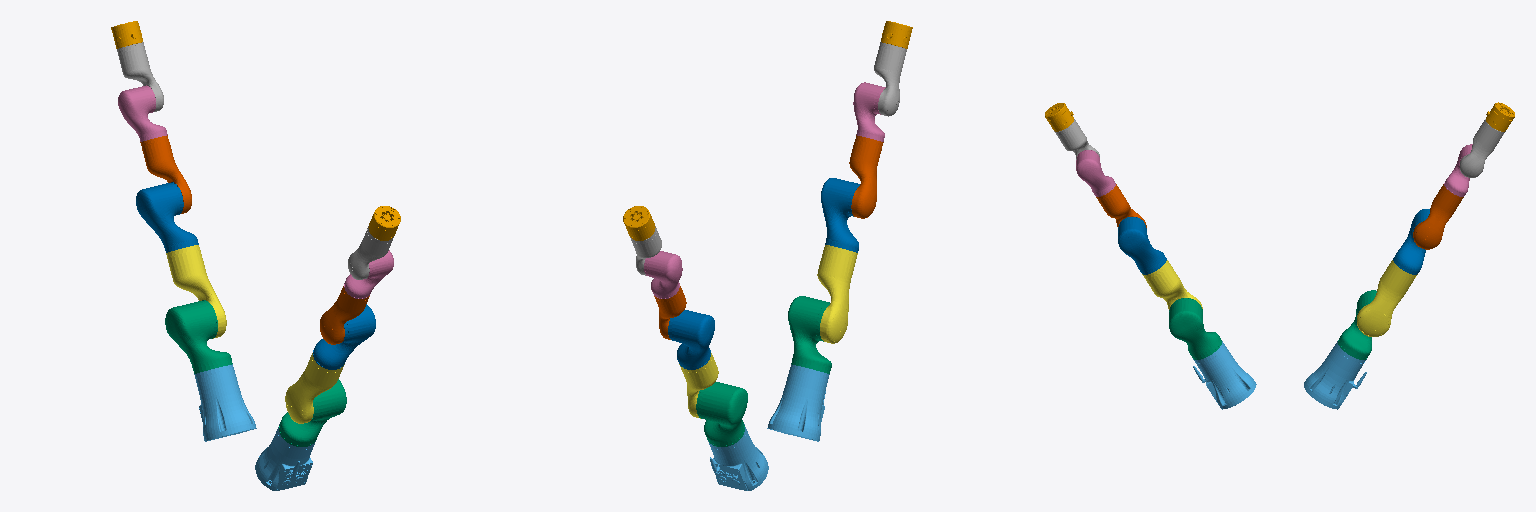
robot.urdf — PsiRobot_DC_02:
<?xml version="1.0" encoding="UTF-8"?>
<robot name="PsiRobot_DC_02">
  <joint name="arm1_joint_link1" type="revolute">
    <origin xyz="-0. -0. 0.2405" rpy="0. 0. 0."/>
    <parent link="arm1_link0"/>
    <child link="arm1_link1"/>
    <axis xyz="0. 0. 1."/>
    <limit lower="-3.1049998" upper="3.1049998" effort="60." velocity="3.1400001"/>
  </joint>
  <joint name="arm1_joint_link2" type="revolute">
    <origin xyz="0. 0. 0." rpy="-1.5426649 -1.5707927 3.1134648"/>
    <parent link="arm1_link1"/>
    <child link="arm1_link2"/>
    <axis xyz="0. 0. 1."/>
    <limit lower="-2.2689999" upper="2.2689999" effort="60." velocity="3.1400001"/>
  </joint>
  <joint name="arm1_joint_link3" type="revolute">
    <origin xyz="0.2560001 0. 0. " rpy="-1.5707963 -0.0000036 -1.5708 "/>
    <parent link="arm1_link2"/>
    <child link="arm1_link3"/>
    <axis xyz="0. 0. 1."/>
    <limit lower="-3.1049998" upper="3.1049998" effort="30." velocity="3.1400001"/>
  </joint>
  <joint name="arm1_joint_link4" type="revolute">
    <origin xyz="0. -0. 0." rpy="-1.5707963 -0. 3.1415892"/>
    <parent link="arm1_link3"/>
    <child link="arm1_link4"/>
    <axis xyz="0. 0. 1."/>
    <limit lower="-2.3559998" upper="2.3559998" effort="30." velocity="3.1400001"/>
  </joint>
  <joint name="arm1_joint_link5" type="revolute">
    <origin xyz="0. -0.21 0. " rpy="1.5708001 -0. -0. "/>
    <parent link="arm1_link4"/>
    <child link="arm1_link5"/>
    <axis xyz="0. 0. 1."/>
    <limit lower="-3.1049998" upper="3.1049998" effort="10." velocity="3.1400001"/>
  </joint>
  <joint name="arm1_joint_link6" type="revolute">
    <origin xyz="0. 0. 0." rpy="-1.5708 0. -0. "/>
    <parent link="arm1_link5"/>
    <child link="arm1_link6"/>
    <axis xyz="0. 0. 1."/>
    <limit lower="-2.2339999" upper="2.2339999" effort="10." velocity="3.1400001"/>
  </joint>
  <joint name="arm1_joint_link7" type="revolute">
    <origin xyz="0. -0.1613 0. " rpy="1.5708 -0. -0. "/>
    <parent link="arm1_link6"/>
    <child link="arm1_link7"/>
    <axis xyz="0. 0. 1."/>
    <limit lower="-6.2799996" upper="6.2799996" effort="10." velocity="3.1400001"/>
  </joint>
  <joint name="arm1_mount_joint" type="fixed">
    <origin xyz="0. 0.1035 1.022 " rpy="0. 0.5235988 1.5707964"/>
    <parent link="body"/>
    <child link="arm1_link0"/>
  </joint>
  <joint name="arm2_joint_link1" type="revolute">
    <origin xyz="-0. 0. 0.2405" rpy="0. 0. 0."/>
    <parent link="arm2_link0"/>
    <child link="arm2_link1"/>
    <axis xyz="0. 0. 1."/>
    <limit lower="-3.1049998" upper="3.1049998" effort="60." velocity="3.1400001"/>
  </joint>
  <joint name="arm2_joint_link2" type="revolute">
    <origin xyz="0. 0. 0." rpy="-1.5337282 -1.5707927 3.1045282"/>
    <parent link="arm2_link1"/>
    <child link="arm2_link2"/>
    <axis xyz="0. 0. 1."/>
    <limit lower="-2.2689999" upper="2.2689999" effort="60." velocity="3.1400001"/>
  </joint>
  <joint name="arm2_joint_link3" type="revolute">
    <origin xyz="0.2560001 0. 0. " rpy="-1.5707963 -0.0000037 -1.5708 "/>
    <parent link="arm2_link2"/>
    <child link="arm2_link3"/>
    <axis xyz="0. 0. 1."/>
    <limit lower="-3.1049998" upper="3.1049998" effort="30." velocity="3.1400001"/>
  </joint>
  <joint name="arm2_joint_link4" type="revolute">
    <origin xyz="0. -0. 0." rpy="-1.5707963 0. 3.1415892"/>
    <parent link="arm2_link3"/>
    <child link="arm2_link4"/>
    <axis xyz="0. 0. 1."/>
    <limit lower="-2.3559998" upper="2.3559998" effort="30." velocity="3.1400001"/>
  </joint>
  <joint name="arm2_joint_link5" type="revolute">
    <origin xyz="0. -0.21 0. " rpy="1.5708 -0. 0. "/>
    <parent link="arm2_link4"/>
    <child link="arm2_link5"/>
    <axis xyz="0. 0. 1."/>
    <limit lower="-3.1049998" upper="3.1049998" effort="10." velocity="3.1400001"/>
  </joint>
  <joint name="arm2_joint_link6" type="revolute">
    <origin xyz="0. 0. 0." rpy="-1.5708 -0. -0. "/>
    <parent link="arm2_link5"/>
    <child link="arm2_link6"/>
    <axis xyz="0. 0. 1."/>
    <limit lower="-2.2339999" upper="2.2339999" effort="10." velocity="3.1400001"/>
  </joint>
  <joint name="arm2_joint_link7" type="revolute">
    <origin xyz="0. -0.1613 0. " rpy="1.5708 -0. 0. "/>
    <parent link="arm2_link6"/>
    <child link="arm2_link7"/>
    <axis xyz="0. 0. 1."/>
    <limit lower="-6.2799996" upper="6.2799996" effort="10." velocity="3.1400001"/>
  </joint>
  <joint name="arm2_mount_joint" type="fixed">
    <origin xyz="0. -0.1035 1.022 " rpy="-0. 0.5235988 -1.5707964"/>
    <parent link="body"/>
    <child link="arm2_link0"/>
  </joint>
  <joint name="base_root_joint" type="fixed">
    <origin xyz="0. 0. 0." rpy="0. 0. 0."/>
    <parent link="PsiRoobot_DC_02"/>
    <child link="body"/>
  </joint>
  <link name="PsiRoobot_DC_02"/>
  <link name="arm1_link0">
    <inertial>
      <origin xyz="0. 0. 0." rpy="0. 0. 0."/>
      <mass value="0.8388853"/>
      <inertia ixx="0.001" ixy="0." ixz="0." iyy="0.001" iyz="0." izz="0.001"/>
    </inertial>
    <visual>
      <origin xyz="-0. 0. 0." rpy="0. -0. -0.0000001"/>
      <geometry>
        <mesh filename="meshes/arm1_link0_visuals.obj" scale="1. 1. 1."/>
      </geometry>
    </visual>
    <collision>
      <origin xyz="-0. 0. 0." rpy="0. -0. -0.0000001"/>
      <geometry>
        <mesh filename="meshes/arm1_link0_collisions.obj" scale="1. 1. 1."/>
      </geometry>
    </collision>
  </link>
  <link name="arm1_link1">
    <inertial>
      <origin xyz="0. 0. 0." rpy="0. 0. 0."/>
      <mass value="1.6026"/>
      <inertia ixx="0.001" ixy="0." ixz="0." iyy="0.001" iyz="0." izz="0.001"/>
    </inertial>
    <visual>
      <origin xyz="-0. 0. 0." rpy="0. -0. -0.0000001"/>
      <geometry>
        <mesh filename="meshes/arm1_link1_visuals.obj" scale="1. 1. 1."/>
      </geometry>
    </visual>
    <collision>
      <origin xyz="-0. 0. 0." rpy="0. -0. -0.0000001"/>
      <geometry>
        <mesh filename="meshes/arm1_link1_collisions.obj" scale="1. 1. 1."/>
      </geometry>
    </collision>
  </link>
  <link name="arm1_link2">
    <inertial>
      <origin xyz="0. 0. 0." rpy="0. 0. 0."/>
      <mass value="1.1687"/>
      <inertia ixx="0.001" ixy="0." ixz="0." iyy="0.001" iyz="0." izz="0.001"/>
    </inertial>
    <visual>
      <origin xyz="0. 0. 0." rpy="-0. -0. -0."/>
      <geometry>
        <mesh filename="meshes/arm1_link2_visuals.obj" scale="1. 1. 1."/>
      </geometry>
    </visual>
    <collision>
      <origin xyz="0. 0. 0." rpy="-0. -0. -0."/>
      <geometry>
        <mesh filename="meshes/arm1_link2_collisions.obj" scale="1. 1. 1."/>
      </geometry>
    </collision>
  </link>
  <link name="arm1_link3">
    <inertial>
      <origin xyz="0. 0. 0." rpy="0. 0. 0."/>
      <mass value="1.1646"/>
      <inertia ixx="0.001" ixy="0." ixz="0." iyy="0.001" iyz="0." izz="0.001"/>
    </inertial>
    <visual>
      <origin xyz="0. -0. -0." rpy="0. 0. -0.0000001"/>
      <geometry>
        <mesh filename="meshes/arm1_link3_visuals.obj" scale="1. 1. 1."/>
      </geometry>
    </visual>
    <collision>
      <origin xyz="0. -0. -0." rpy="0. 0. -0.0000001"/>
      <geometry>
        <mesh filename="meshes/arm1_link3_collisions.obj" scale="1. 1. 1."/>
      </geometry>
    </collision>
  </link>
  <link name="arm1_link4">
    <inertial>
      <origin xyz="0. 0. 0." rpy="0. 0. 0."/>
      <mass value="0.78204"/>
      <inertia ixx="0.001" ixy="0." ixz="0." iyy="0.001" iyz="0." izz="0.001"/>
    </inertial>
    <visual>
      <origin xyz="-0. 0. 0." rpy="0. 0. -0."/>
      <geometry>
        <mesh filename="meshes/arm1_link4_visuals.obj" scale="1. 1. 1."/>
      </geometry>
    </visual>
    <collision>
      <origin xyz="-0. 0. 0." rpy="0. 0. -0."/>
      <geometry>
        <mesh filename="meshes/arm1_link4_collisions.obj" scale="1. 1. 1."/>
      </geometry>
    </collision>
  </link>
  <link name="arm1_link5">
    <inertial>
      <origin xyz="0. 0. 0." rpy="0. 0. 0."/>
      <mass value="0.64648"/>
      <inertia ixx="0.001" ixy="0." ixz="0." iyy="0.001" iyz="0." izz="0.001"/>
    </inertial>
    <visual>
      <origin xyz="-0. 0. -0." rpy="-0. -0. -0."/>
      <geometry>
        <mesh filename="meshes/arm1_link5_visuals.obj" scale="1. 1. 1."/>
      </geometry>
    </visual>
    <collision>
      <origin xyz="-0. 0. -0." rpy="-0. -0. -0."/>
      <geometry>
        <mesh filename="meshes/arm1_link5_collisions.obj" scale="1. 1. 1."/>
      </geometry>
    </collision>
  </link>
  <link name="arm1_link6">
    <inertial>
      <origin xyz="0. 0. 0." rpy="0. 0. 0."/>
      <mass value="0.59074"/>
      <inertia ixx="0.001" ixy="0." ixz="0." iyy="0.001" iyz="0." izz="0.001"/>
    </inertial>
    <visual>
      <origin xyz="-0. 0. 0." rpy="-0. 0. -0."/>
      <geometry>
        <mesh filename="meshes/arm1_link6_visuals.obj" scale="1. 1. 1."/>
      </geometry>
    </visual>
    <collision>
      <origin xyz="-0. 0. 0." rpy="-0. 0. -0."/>
      <geometry>
        <mesh filename="meshes/arm1_link6_collisions.obj" scale="1. 1. 1."/>
      </geometry>
    </collision>
  </link>
  <link name="arm1_link7">
    <inertial>
      <origin xyz="0. 0. 0." rpy="0. 0. 0."/>
      <mass value="0.57062"/>
      <inertia ixx="0.001" ixy="0." ixz="0." iyy="0.001" iyz="0." izz="0.001"/>
    </inertial>
    <visual>
      <origin xyz="-0. 0. 0." rpy="-0. -0. -0."/>
      <geometry>
        <mesh filename="meshes/arm1_link7_visuals.obj" scale="1. 1. 1."/>
      </geometry>
    </visual>
    <collision>
      <origin xyz="-0. 0. 0." rpy="-0. -0. -0."/>
      <geometry>
        <mesh filename="meshes/arm1_link7_collisions.obj" scale="1. 1. 1."/>
      </geometry>
    </collision>
  </link>
  <link name="arm2_link0">
    <inertial>
      <origin xyz="0. 0. 0." rpy="0. 0. 0."/>
      <mass value="0.8388853"/>
      <inertia ixx="0.001" ixy="0." ixz="0." iyy="0.001" iyz="0." izz="0.001"/>
    </inertial>
    <visual>
      <origin xyz="-0. 0. 0." rpy="-0. -0. 0.0000001"/>
      <geometry>
        <mesh filename="meshes/arm2_link0_visuals.obj" scale="1. 1. 1."/>
      </geometry>
    </visual>
    <collision>
      <origin xyz="-0. 0. 0." rpy="-0. -0. 0.0000001"/>
      <geometry>
        <mesh filename="meshes/arm2_link0_collisions.obj" scale="1. 1. 1."/>
      </geometry>
    </collision>
  </link>
  <link name="arm2_link1">
    <inertial>
      <origin xyz="0. 0. 0." rpy="0. 0. 0."/>
      <mass value="1.6026"/>
      <inertia ixx="0.001" ixy="0." ixz="0." iyy="0.001" iyz="0." izz="0.001"/>
    </inertial>
    <visual>
      <origin xyz="-0. 0. 0." rpy="-0. -0. 0.0000001"/>
      <geometry>
        <mesh filename="meshes/arm2_link1_visuals.obj" scale="1. 1. 1."/>
      </geometry>
    </visual>
    <collision>
      <origin xyz="-0. 0. 0." rpy="-0. -0. 0.0000001"/>
      <geometry>
        <mesh filename="meshes/arm2_link1_collisions.obj" scale="1. 1. 1."/>
      </geometry>
    </collision>
  </link>
  <link name="arm2_link2">
    <inertial>
      <origin xyz="0. 0. 0." rpy="0. 0. 0."/>
      <mass value="1.1687"/>
      <inertia ixx="0.001" ixy="0." ixz="0." iyy="0.001" iyz="0." izz="0.001"/>
    </inertial>
    <visual>
      <origin xyz="0. 0. 0." rpy="-0. -0. -0."/>
      <geometry>
        <mesh filename="meshes/arm2_link2_visuals.obj" scale="1. 1. 1."/>
      </geometry>
    </visual>
    <collision>
      <origin xyz="0. 0. 0." rpy="-0. -0. -0."/>
      <geometry>
        <mesh filename="meshes/arm2_link2_collisions.obj" scale="1. 1. 1."/>
      </geometry>
    </collision>
  </link>
  <link name="arm2_link3">
    <inertial>
      <origin xyz="0. 0. 0." rpy="0. 0. 0."/>
      <mass value="1.1646"/>
      <inertia ixx="0.001" ixy="0." ixz="0." iyy="0.001" iyz="0." izz="0.001"/>
    </inertial>
    <visual>
      <origin xyz="0. -0. -0." rpy="0. -0. 0.0000001"/>
      <geometry>
        <mesh filename="meshes/arm2_link3_visuals.obj" scale="1. 1. 1."/>
      </geometry>
    </visual>
    <collision>
      <origin xyz="0. -0. -0." rpy="0. -0. 0.0000001"/>
      <geometry>
        <mesh filename="meshes/arm2_link3_collisions.obj" scale="1. 1. 1."/>
      </geometry>
    </collision>
  </link>
  <link name="arm2_link4">
    <inertial>
      <origin xyz="0. 0. 0." rpy="0. 0. 0."/>
      <mass value="0.78204"/>
      <inertia ixx="0.001" ixy="0." ixz="0." iyy="0.001" iyz="0." izz="0.001"/>
    </inertial>
    <visual>
      <origin xyz="-0. 0. 0." rpy="0. -0. 0."/>
      <geometry>
        <mesh filename="meshes/arm2_link4_visuals.obj" scale="1. 1. 1."/>
      </geometry>
    </visual>
    <collision>
      <origin xyz="-0. 0. 0." rpy="0. -0. 0."/>
      <geometry>
        <mesh filename="meshes/arm2_link4_collisions.obj" scale="1. 1. 1."/>
      </geometry>
    </collision>
  </link>
  <link name="arm2_link5">
    <inertial>
      <origin xyz="0. 0. 0." rpy="0. 0. 0."/>
      <mass value="0.64648"/>
      <inertia ixx="0.001" ixy="0." ixz="0." iyy="0.001" iyz="0." izz="0.001"/>
    </inertial>
    <visual>
      <origin xyz="-0. 0. -0." rpy="0. -0. 0."/>
      <geometry>
        <mesh filename="meshes/arm2_link5_visuals.obj" scale="1. 1. 1."/>
      </geometry>
    </visual>
    <collision>
      <origin xyz="-0. 0. -0." rpy="0. -0. 0."/>
      <geometry>
        <mesh filename="meshes/arm2_link5_collisions.obj" scale="1. 1. 1."/>
      </geometry>
    </collision>
  </link>
  <link name="arm2_link6">
    <inertial>
      <origin xyz="0. 0. 0." rpy="0. 0. 0."/>
      <mass value="0.59074"/>
      <inertia ixx="0.001" ixy="0." ixz="0." iyy="0.001" iyz="0." izz="0.001"/>
    </inertial>
    <visual>
      <origin xyz="-0. 0. 0." rpy="-0. -0. 0."/>
      <geometry>
        <mesh filename="meshes/arm2_link6_visuals.obj" scale="1. 1. 1."/>
      </geometry>
    </visual>
    <collision>
      <origin xyz="-0. 0. 0." rpy="-0. -0. 0."/>
      <geometry>
        <mesh filename="meshes/arm2_link6_collisions.obj" scale="1. 1. 1."/>
      </geometry>
    </collision>
  </link>
  <link name="arm2_link7">
    <inertial>
      <origin xyz="0. 0. 0." rpy="0. 0. 0."/>
      <mass value="0.57062"/>
      <inertia ixx="0.001" ixy="0." ixz="0." iyy="0.001" iyz="0." izz="0.001"/>
    </inertial>
    <visual>
      <origin xyz="-0. 0. 0." rpy="0. -0. 0."/>
      <geometry>
        <mesh filename="meshes/arm2_link7_visuals.obj" scale="1. 1. 1."/>
      </geometry>
    </visual>
    <collision>
      <origin xyz="-0. 0. 0." rpy="0. -0. 0."/>
      <geometry>
        <mesh filename="meshes/arm2_link7_collisions.obj" scale="1. 1. 1."/>
      </geometry>
    </collision>
  </link>
  <link name="body">
    <inertial>
      <origin xyz="-0.0010468 0.407637 34.624626 " rpy="0. 0. 0."/>
      <mass value="44."/>
      <inertia ixx="11.9363623" ixy="0." ixz="0." iyy="11.5255356" iyz="0." izz="1.596957"/>
    </inertial>
    <visual>
      <origin xyz="0. 0. -0.0105199" rpy="0. 0. 1.5707964"/>
      <geometry>
        <mesh filename="meshes/body_visuals.obj" scale="1. 1. 1."/>
      </geometry>
    </visual>
    <collision>
      <origin xyz="0. 0. -0.0105199" rpy="0. 0. 1.5707964"/>
      <geometry>
        <mesh filename="meshes/body_visuals.obj" scale="1. 1. 1."/>
      </geometry>
    </collision>
  </link>
</robot>

--- Facts derived from the render (not from the file) ---
Views: 3 orthographic renders of the robot side by side, from view 1: azimuth 30°, elevation 25°; view 2: azimuth 150°, elevation 25°; view 3: azimuth 270°, elevation 25°.
Model PsiRobot_DC_02 with 18 links and 17 joints (14 revolute, 3 fixed), rooted at PsiRoobot_DC_02, posed every joint at zero.
Links seen in each view (by area): view 1: arm1_link0, arm1_link1, arm1_link3, arm2_link0, arm1_link2, arm2_link1, arm2_link2, arm2_link3, arm1_link5, arm1_link4, arm2_link4, arm1_link6 (+4 smaller); view 2: arm2_link0, arm2_link2, arm1_link1, arm1_link0, arm2_link1, arm1_link3, arm2_link3, arm2_link4, arm2_link6, arm1_link5, arm2_link5, arm1_link2 (+4 smaller); view 3: arm1_link0, arm2_link0, arm1_link2, arm2_link1, arm2_link3, arm1_link4, arm1_link6, arm2_link2, arm1_link1, arm2_link5, arm1_link3, arm2_link4 (+4 smaller).
Link boxes in pixels (box(x1,y1,x2,y2)): arm1_link0: box(194, 364, 256, 441); arm1_link1: box(165, 300, 232, 373); arm1_link3: box(136, 182, 198, 252); arm2_link0: box(255, 424, 315, 490); arm1_link2: box(166, 245, 226, 338); arm2_link1: box(279, 379, 346, 446); arm2_link2: box(285, 353, 344, 423); arm2_link3: box(313, 304, 375, 369); arm1_link5: box(118, 85, 167, 141); arm1_link4: box(140, 135, 191, 213); arm2_link4: box(320, 286, 369, 344); arm1_link6: box(117, 42, 163, 111); arm2_link0: box(767, 364, 829, 441); arm2_link2: box(817, 245, 857, 343); arm1_link1: box(696, 382, 747, 446); arm1_link0: box(708, 424, 768, 490); arm2_link1: box(788, 296, 831, 373); arm1_link3: box(668, 310, 714, 369); arm2_link3: box(821, 178, 859, 252); arm2_link4: box(849, 135, 883, 218); arm2_link6: box(874, 42, 906, 116); arm1_link5: box(644, 251, 682, 298); arm2_link5: box(853, 82, 885, 141); arm1_link2: box(679, 353, 718, 418); arm1_link0: box(1304, 341, 1366, 409); arm2_link0: box(1193, 341, 1256, 409); arm1_link2: box(1357, 260, 1417, 336); arm2_link1: box(1169, 298, 1221, 359); arm2_link3: box(1118, 217, 1166, 274); arm1_link4: box(1413, 184, 1463, 249); arm1_link6: box(1460, 119, 1505, 177); arm2_link2: box(1142, 260, 1202, 309); arm1_link1: box(1338, 290, 1376, 359); arm2_link5: box(1076, 150, 1115, 196); arm1_link3: box(1393, 209, 1429, 274); arm2_link4: box(1096, 184, 1146, 227).
Bounding box of the posed robot: 0.1361 × 1.12 × 0.786 m (x, y, z).
Meshes: 17 distinct files referenced, 16 mesh visuals loaded (16 OBJ); not drawn: 1 (reference not matched to a file when rendering).
